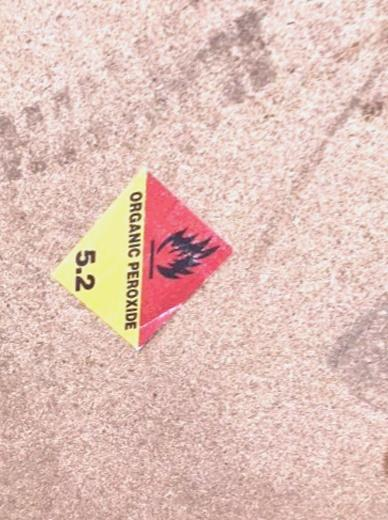organic-peroxide: (49, 162, 243, 359)
